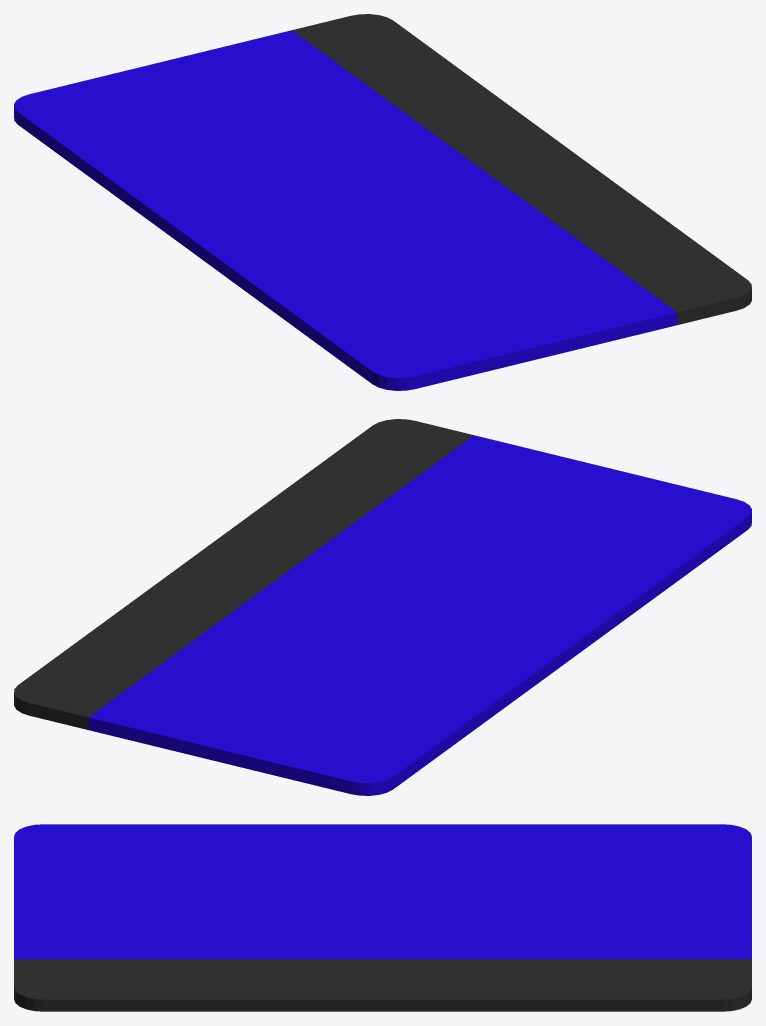
The model's file is keycard.glb.
3 views of the same model, one above another, from view 1: azimuth 30°, elevation 25°; view 2: azimuth 150°, elevation 25°; view 3: azimuth 270°, elevation 25° (orthographic). The views are drawn at different scales.
Visible parts, largest first — view 1: Cube; view 2: Cube; view 3: Cube.
Boxes of the visible parts, x1=… form: Cube: x1=14, y1=14, x2=751, y2=390; Cube: x1=14, y1=419, x2=751, y2=795; Cube: x1=14, y1=824, x2=751, y2=1011.
Bounding box in the file's own units: 0.3569 × 0.0116 × 0.6351.
